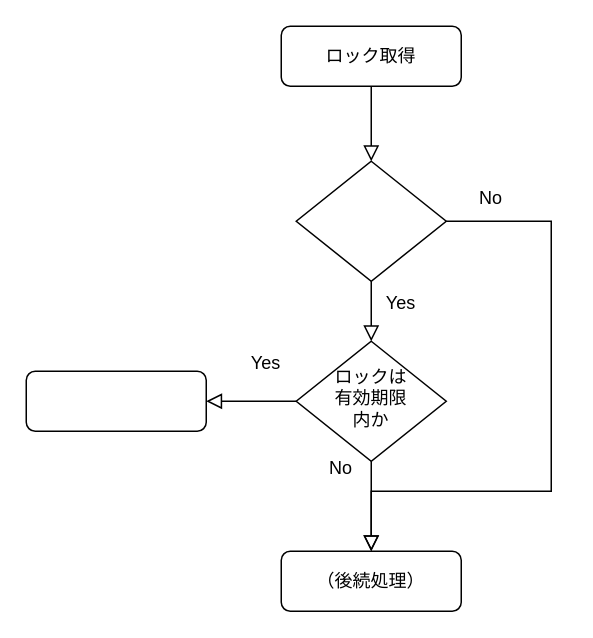
This 593x638 diagram has some shape labels left out. Each missing label, with the box of its shape:
すでに ロックが あるか: (295, 160, 446, 281)
ロック中とみなして エラー終了: (25, 370, 206, 431)
